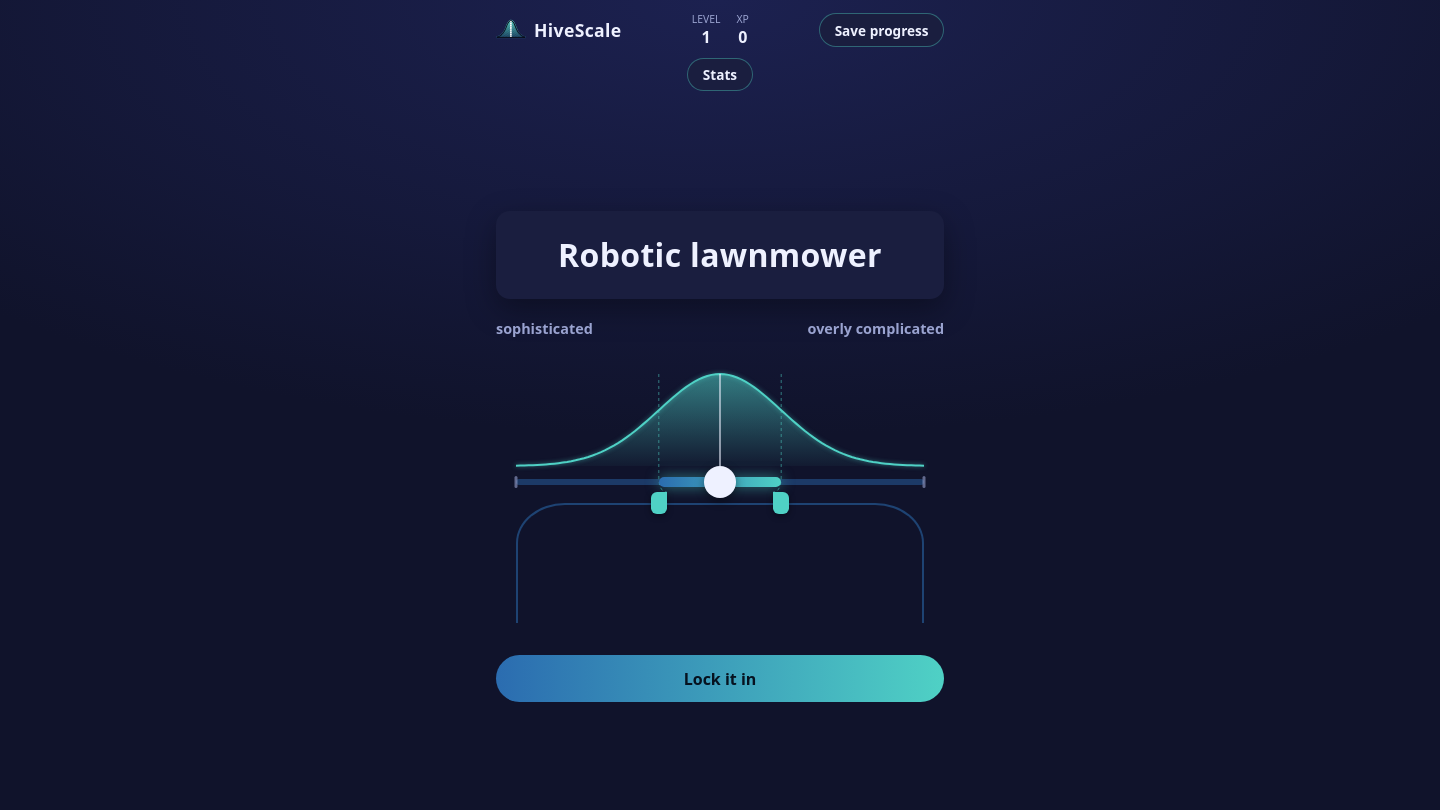
Test: PlayScreen › plays a happy round, preloads the next during the reveal, then advances
Later steps or results of the test are not shown.
Expected: the heading "Robotic lawnmower" is shown, [558,233,882,276]
Click the button "Lock it in" at point(720, 679), box [496,655,944,702]
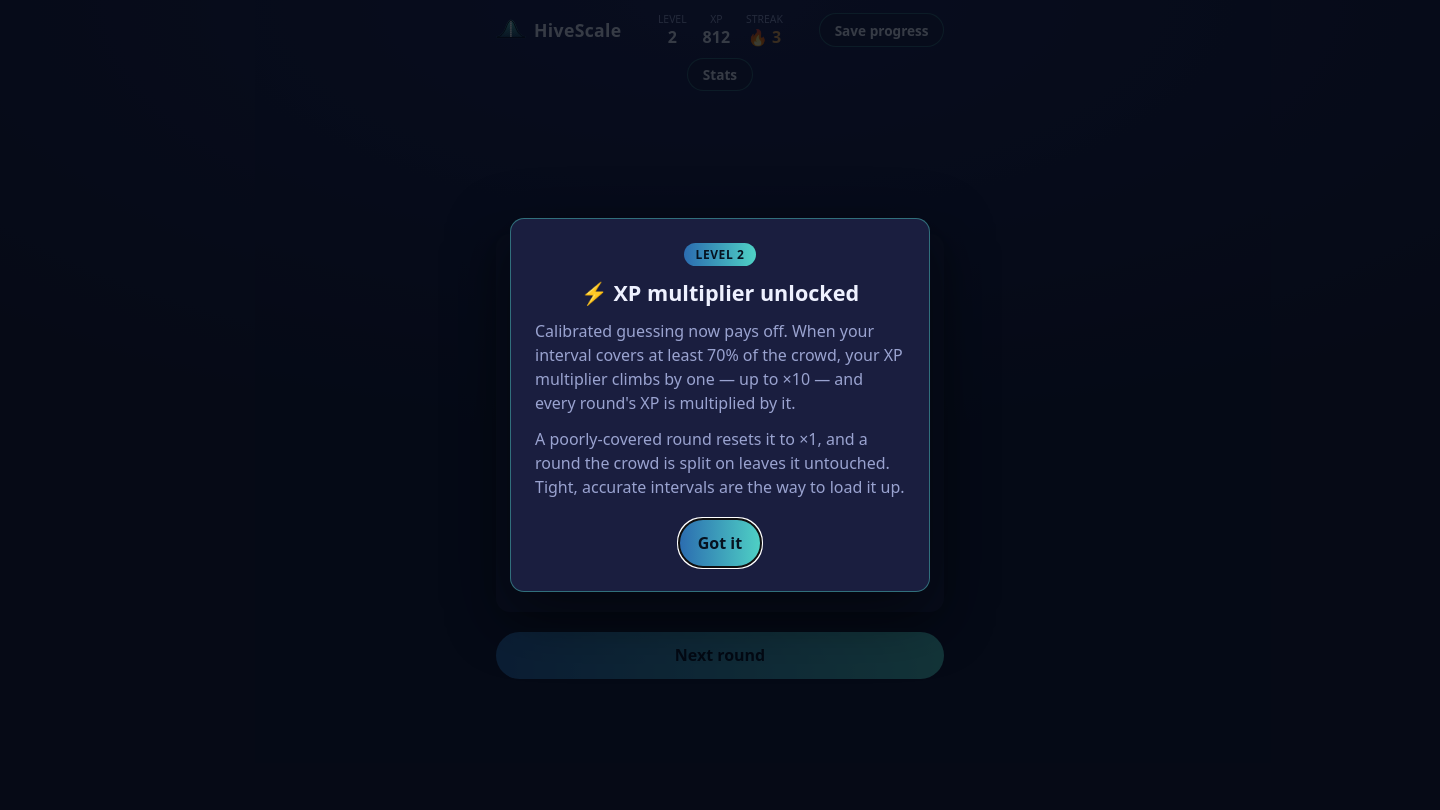
Expected: the text with test id "reveal-score-total" reads "812", [665,404,775,491]
Expected: the text with test id "session-xp" reads "812", [703,26,730,48]
